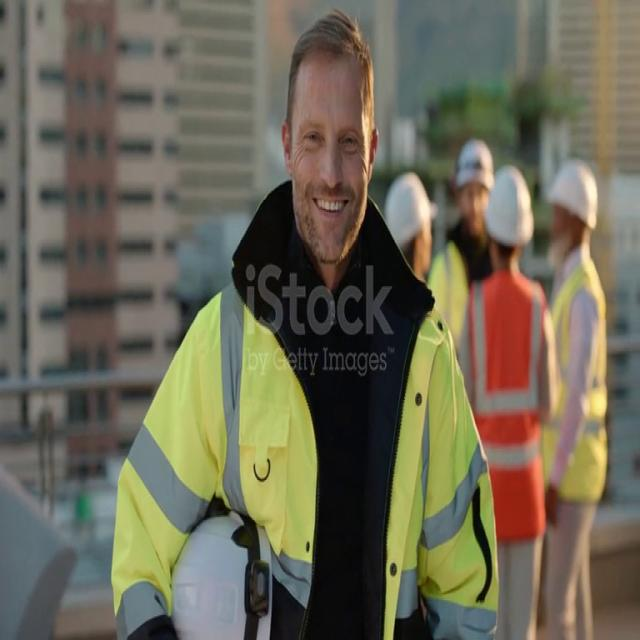capacete: (169, 492, 283, 640), (378, 165, 444, 260), (547, 134, 607, 237), (482, 160, 542, 259), (446, 120, 494, 207)
